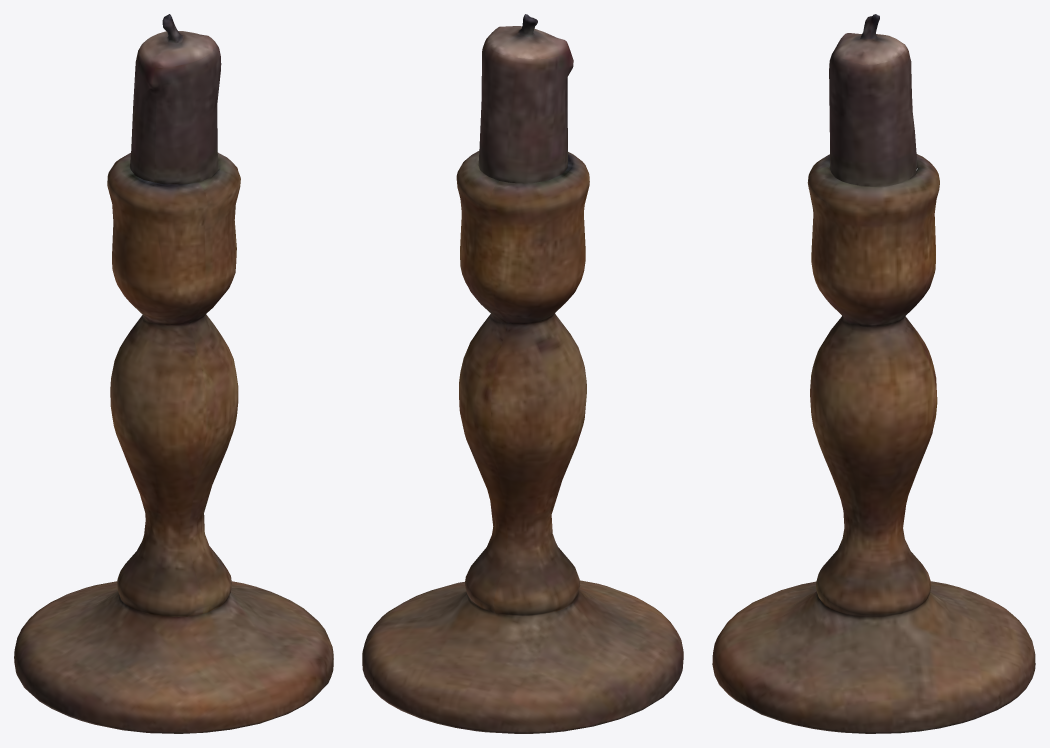
Rendered from ph_wooden_candlestick.glb.
3 views of the same model, side by side, from view 1: azimuth 30°, elevation 25°; view 2: azimuth 150°, elevation 25°; view 3: azimuth 270°, elevation 25° (orthographic).
Parts seen in each view (by area): view 1: wooden_candlestick; view 2: wooden_candlestick; view 3: wooden_candlestick.
Part boxes in pixels (x1,y1,x2,y2): wooden_candlestick: [14, 14, 333, 733]; wooden_candlestick: [362, 14, 683, 733]; wooden_candlestick: [712, 14, 1035, 733].
Bounding box in the file's own units: 0.0972 × 0.2196 × 0.0986.
1 material, 1 textured.
